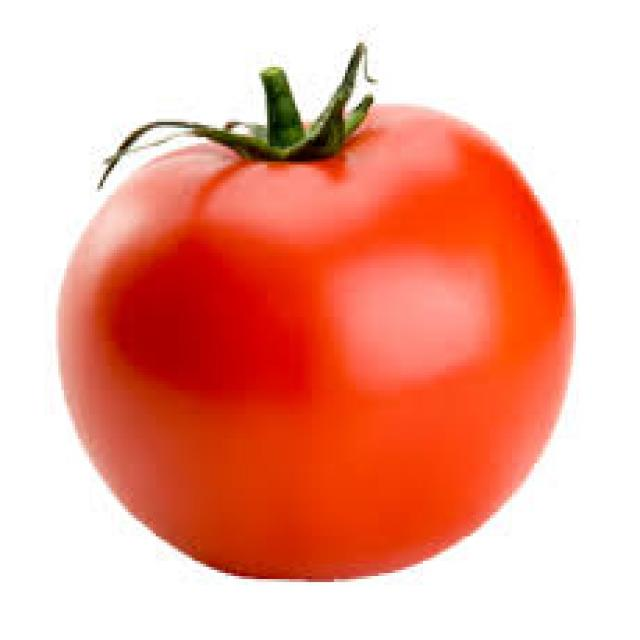organic waste: (53, 70, 573, 585)
